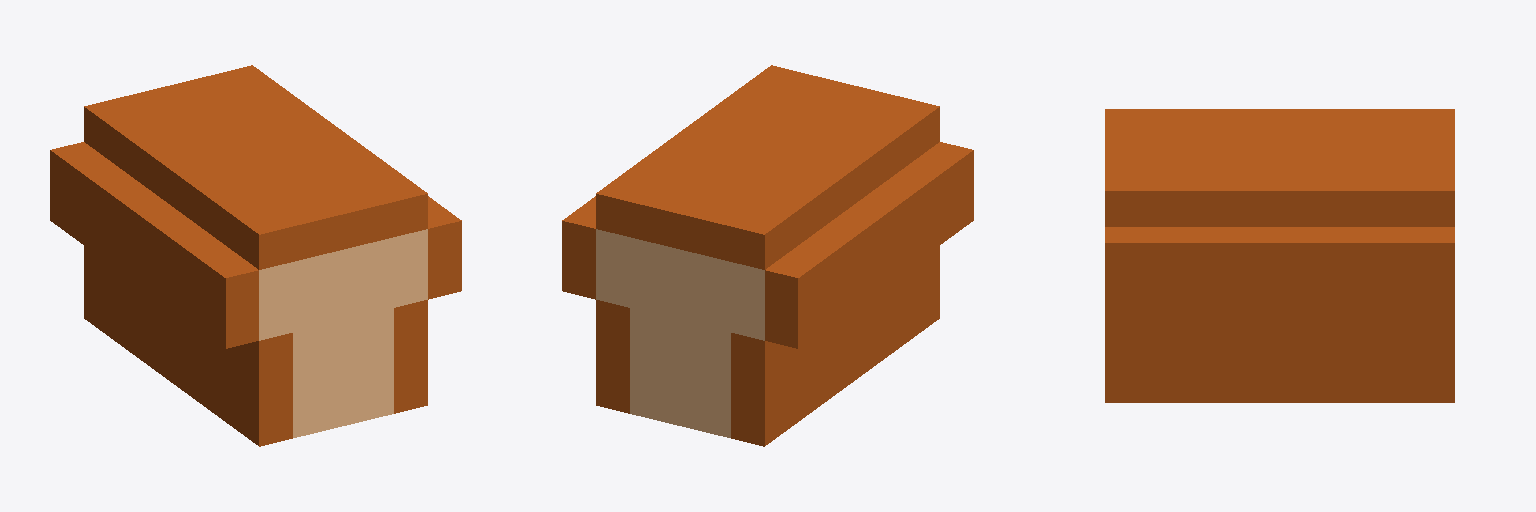
3 renders of one model, left to right at view 1: azimuth 30°, elevation 25°; view 2: azimuth 150°, elevation 25°; view 3: azimuth 270°, elevation 25°, orthographic.
Parts seen in each view (by area): view 1: object 1; view 2: object 1; view 3: object 1.
Boxes of the visible parts, box(x1,y1,x2,y2) form: object 1: box(50, 65, 461, 446); object 1: box(562, 65, 973, 446); object 1: box(1105, 109, 1454, 402).
Size of the model in its own units: 0.7 by 0.6 by 0.9.
1 materials, 1 textured.